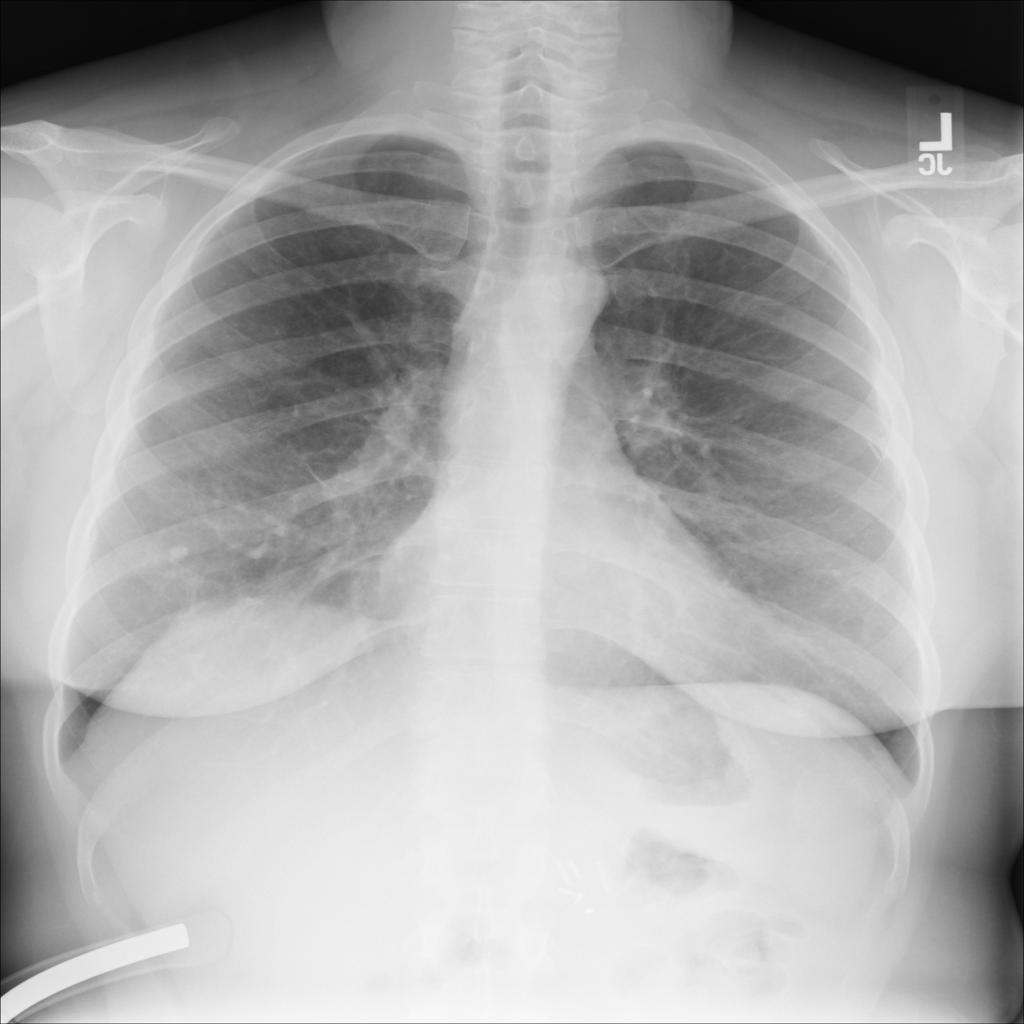nodule: (152, 530, 206, 575)
